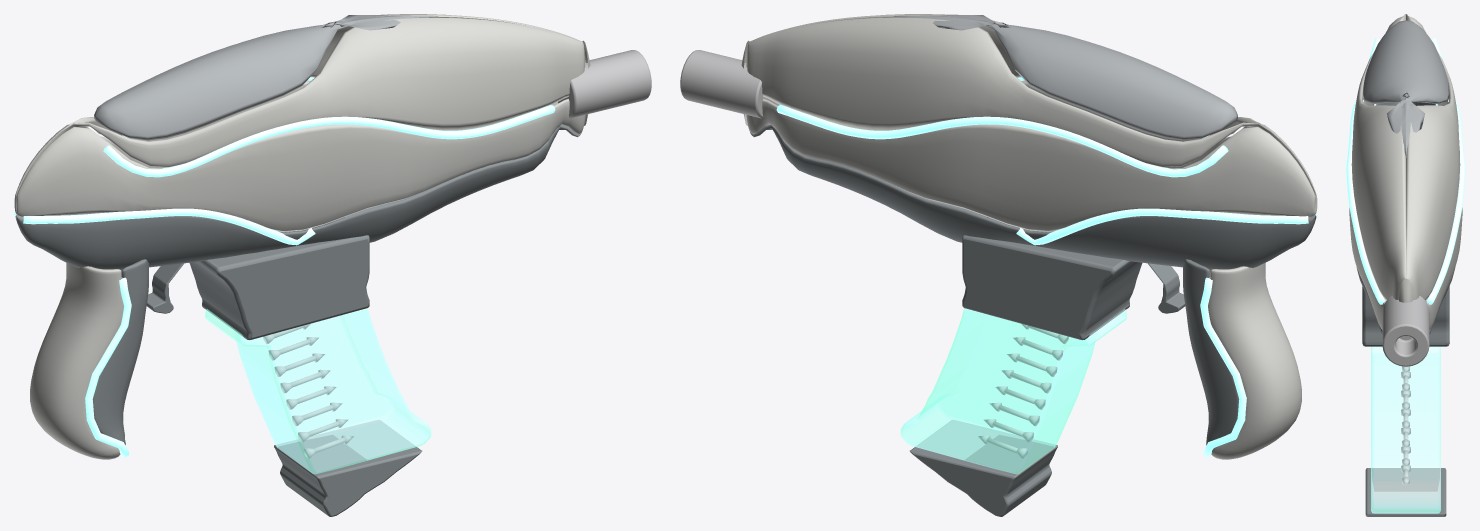
File: pistolet_flechettes_b_sans_cuisson.glb
3 views of the same model, side by side, from view 1: azimuth 30°, elevation 25°; view 2: azimuth 150°, elevation 25°; view 3: azimuth 270°, elevation 25° (orthographic). The views are drawn at different scales.
Parts seen in each view (by area): view 1: SM_Corps_Bande, SM_Corps_Haut, SM_Chargeur_Verre, SM_Corps_Bas, SM_Corps_Panneau, SM_Puits, SM_Crosse_Arriere, SM_Chargeur_Culot, SM_Crosse_Avant, SM_Canon, SM_Lisere_S_G, SM_Chargeur_Flechettes (+3 smaller); view 2: SM_Corps_Bande, SM_Corps_Haut, SM_Chargeur_Verre, SM_Corps_Bas, SM_Corps_Panneau, SM_Puits, SM_Crosse_Arriere, SM_Chargeur_Culot, SM_Crosse_Avant, SM_Canon, SM_Lisere_S_D, SM_Chargeur_Flechettes (+3 smaller); view 3: SM_Corps_Haut, SM_Chargeur_Verre, SM_Corps_Panneau, SM_Chargeur_Culot, SM_Canon, SM_Corps_Bande, SM_Puits, SM_Lisere_S_D, SM_Lisere_S_G, SM_Chargeur_Flechettes, SM_Corps_Bas, SM_Nez.
Part boxes in pixels (bbox=[...]): SM_Corps_Bande: bbox=[14, 60, 585, 231]; SM_Corps_Haut: bbox=[16, 14, 584, 195]; SM_Chargeur_Verre: bbox=[205, 308, 431, 474]; SM_Corps_Bas: bbox=[15, 124, 581, 270]; SM_Corps_Panneau: bbox=[94, 14, 438, 140]; SM_Puits: bbox=[189, 217, 369, 340]; SM_Crosse_Arriere: bbox=[30, 263, 123, 459]; SM_Chargeur_Culot: bbox=[274, 420, 421, 516]; SM_Crosse_Avant: bbox=[92, 259, 148, 444]; SM_Canon: bbox=[558, 50, 651, 118]; SM_Lisere_S_G: bbox=[103, 104, 555, 177]; SM_Chargeur_Flechettes: bbox=[263, 323, 353, 458]; SM_Corps_Bande: bbox=[746, 60, 1317, 231]; SM_Corps_Haut: bbox=[747, 14, 1315, 195]; SM_Chargeur_Verre: bbox=[900, 308, 1126, 474]; SM_Corps_Bas: bbox=[750, 124, 1316, 270]; SM_Corps_Panneau: bbox=[893, 14, 1237, 140]; SM_Puits: bbox=[962, 217, 1142, 340]; SM_Crosse_Arriere: bbox=[1208, 263, 1301, 459]; SM_Chargeur_Culot: bbox=[910, 420, 1057, 516]; SM_Crosse_Avant: bbox=[1183, 259, 1239, 445]; SM_Canon: bbox=[680, 50, 773, 118]; SM_Lisere_S_D: bbox=[776, 104, 1228, 177]; SM_Chargeur_Flechettes: bbox=[978, 323, 1068, 458]; SM_Corps_Haut: bbox=[1351, 14, 1460, 300]; SM_Chargeur_Verre: bbox=[1371, 346, 1440, 513]; SM_Corps_Panneau: bbox=[1362, 20, 1449, 158]; SM_Chargeur_Culot: bbox=[1365, 468, 1446, 516]; SM_Canon: bbox=[1382, 296, 1429, 366]; SM_Corps_Bande: bbox=[1349, 16, 1462, 329]; SM_Puits: bbox=[1362, 286, 1449, 346]; SM_Lisere_S_D: bbox=[1426, 38, 1465, 304]; SM_Lisere_S_G: bbox=[1346, 38, 1385, 304]; SM_Chargeur_Flechettes: bbox=[1401, 366, 1410, 484]; SM_Corps_Bas: bbox=[1356, 101, 1455, 334]; SM_Nez: bbox=[1399, 278, 1412, 302].
Bounding box in the file's own units: 0.2986 × 0.2164 × 0.0547.
